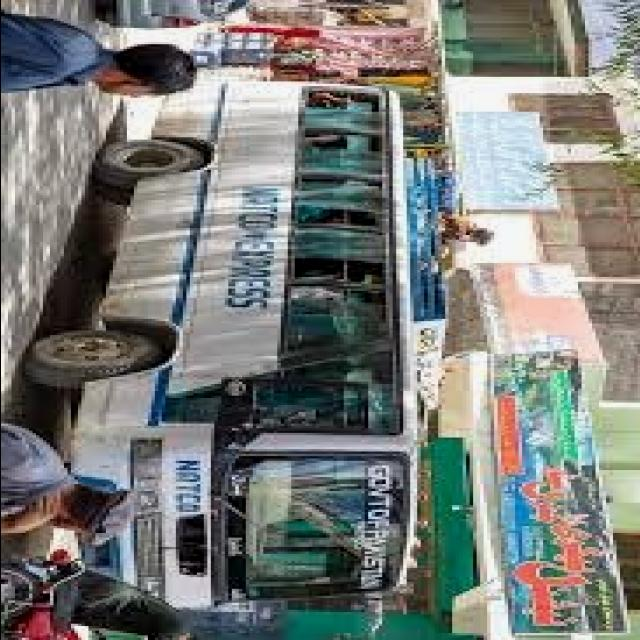bus: (47, 68, 433, 633)
